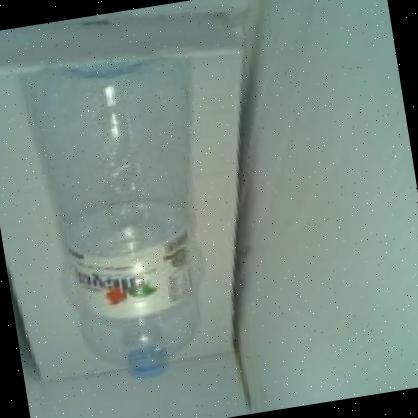bottle: (17, 29, 250, 406)
label: (60, 224, 213, 324)
